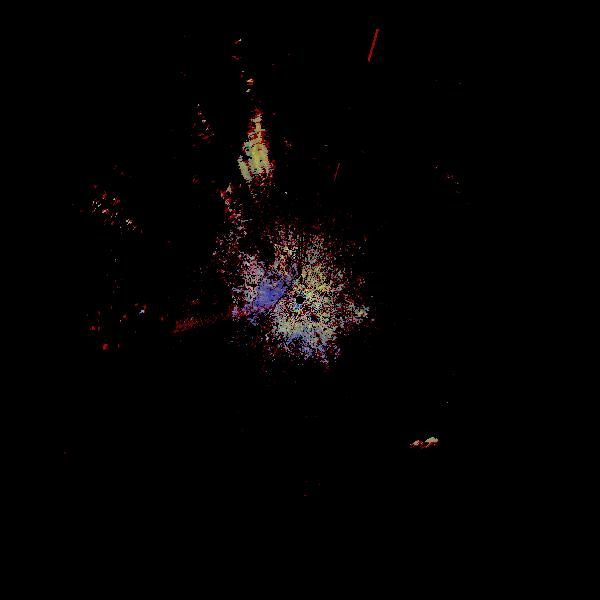roost: (384, 414, 498, 528)
